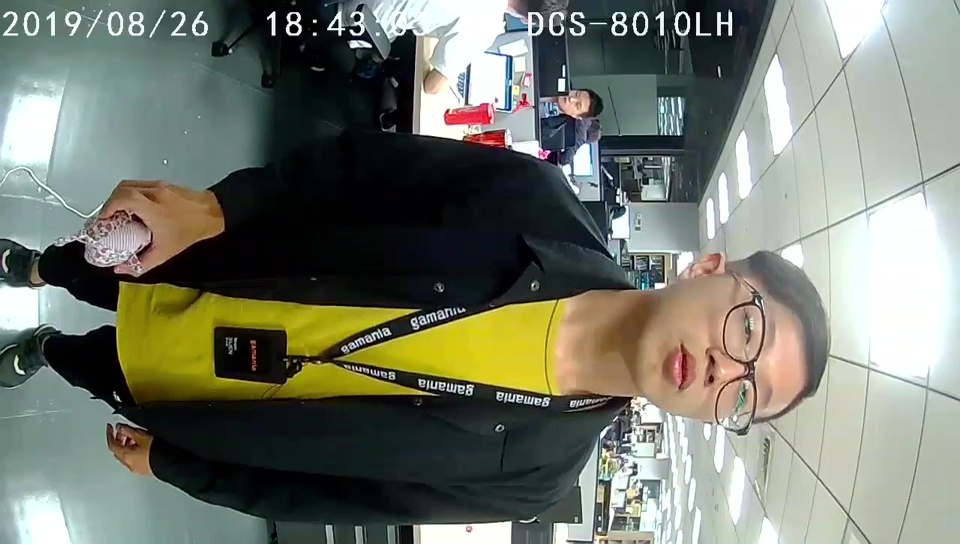pig: (78, 208, 154, 275)
